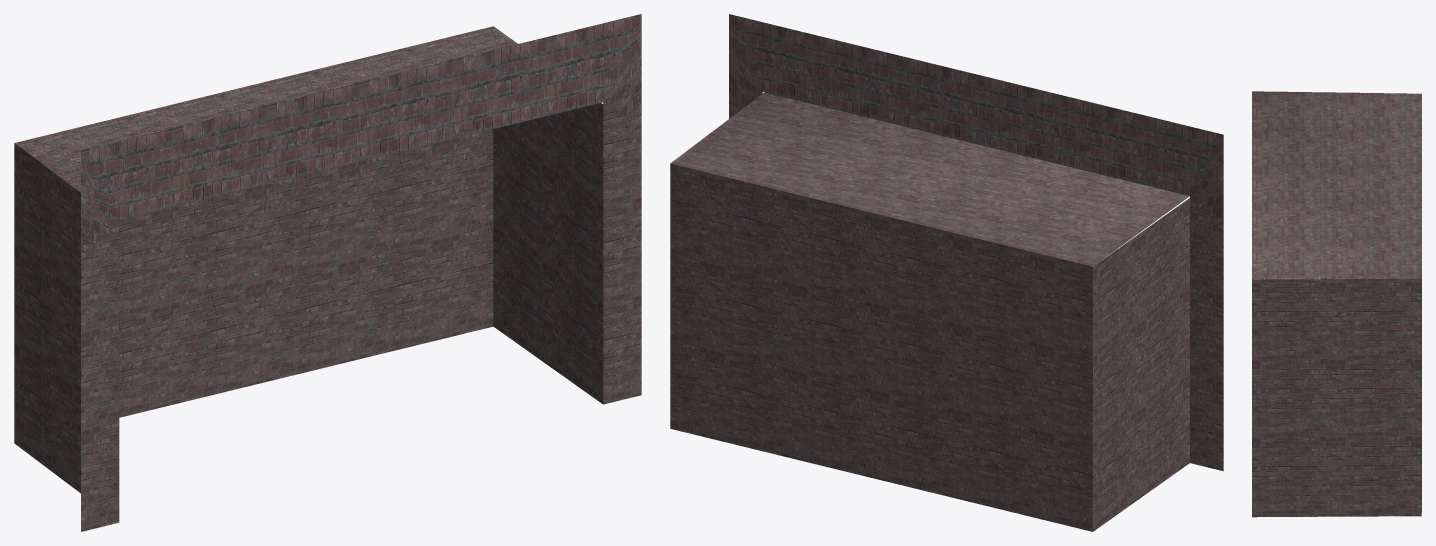
File: Wall_D_Brick_RectangleIn_6x_COL.FBX
3 renders of one model, left to right at view 1: azimuth 30°, elevation 25°; view 2: azimuth 150°, elevation 25°; view 3: azimuth 270°, elevation 25°, orthographic. The views are drawn at different scales.
Visible parts, largest first — view 1: Wall_D_Brick_RectangleIn_6x_COL; view 2: Wall_D_Brick_RectangleIn_6x_COL; view 3: Wall_D_Brick_RectangleIn_6x_COL.
Boxes of the visible parts, bbox=[...] form: Wall_D_Brick_RectangleIn_6x_COL: bbox=[14, 14, 641, 531]; Wall_D_Brick_RectangleIn_6x_COL: bbox=[670, 14, 1223, 531]; Wall_D_Brick_RectangleIn_6x_COL: bbox=[1252, 91, 1421, 517].
Bounding box in the file's own units: 600 × 390 × 199.
1 material, 1 textured.
